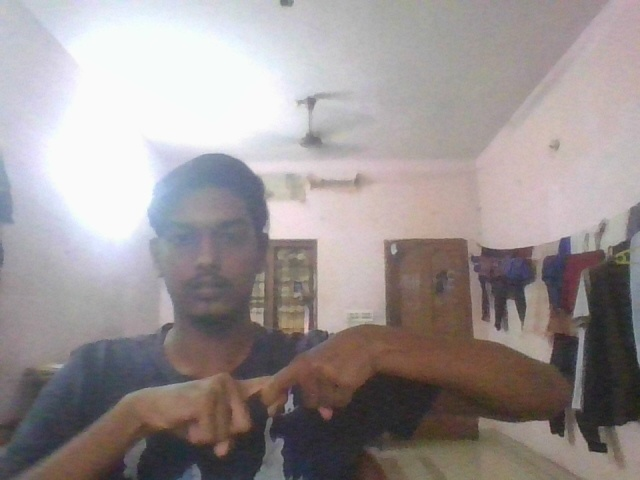friend: (114, 322, 390, 462)
